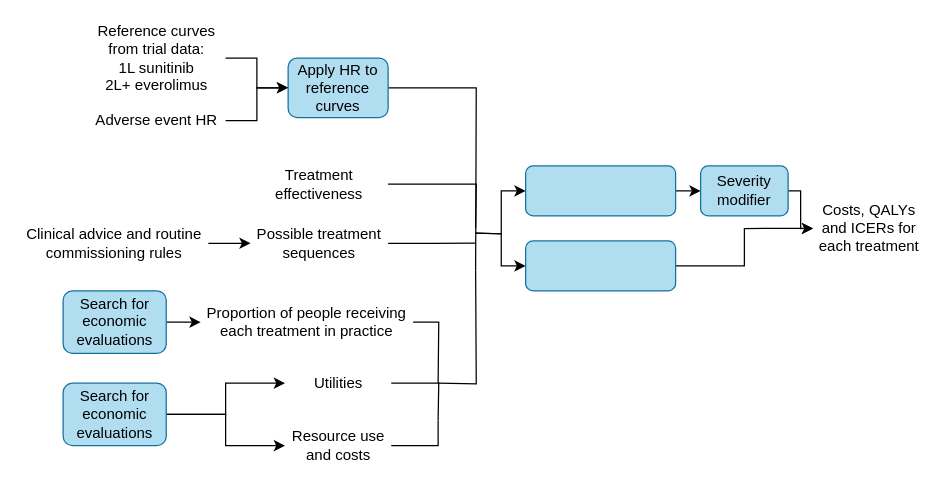
Some shapes in this 948 by 491 pixel diagram are drawn without their labels. The centre of each missing label's shape, as x and y in pixels:
Partitioned survival model: the point at 600,265
State transition (Markov) model: the point at 600,190
